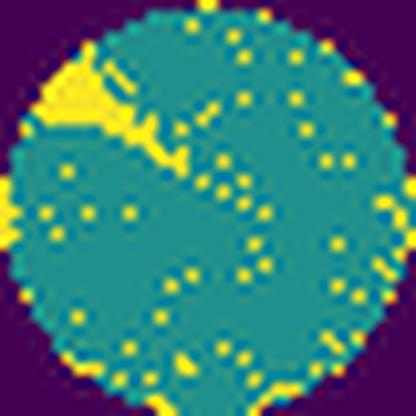Loc: (31, 55, 190, 179)
